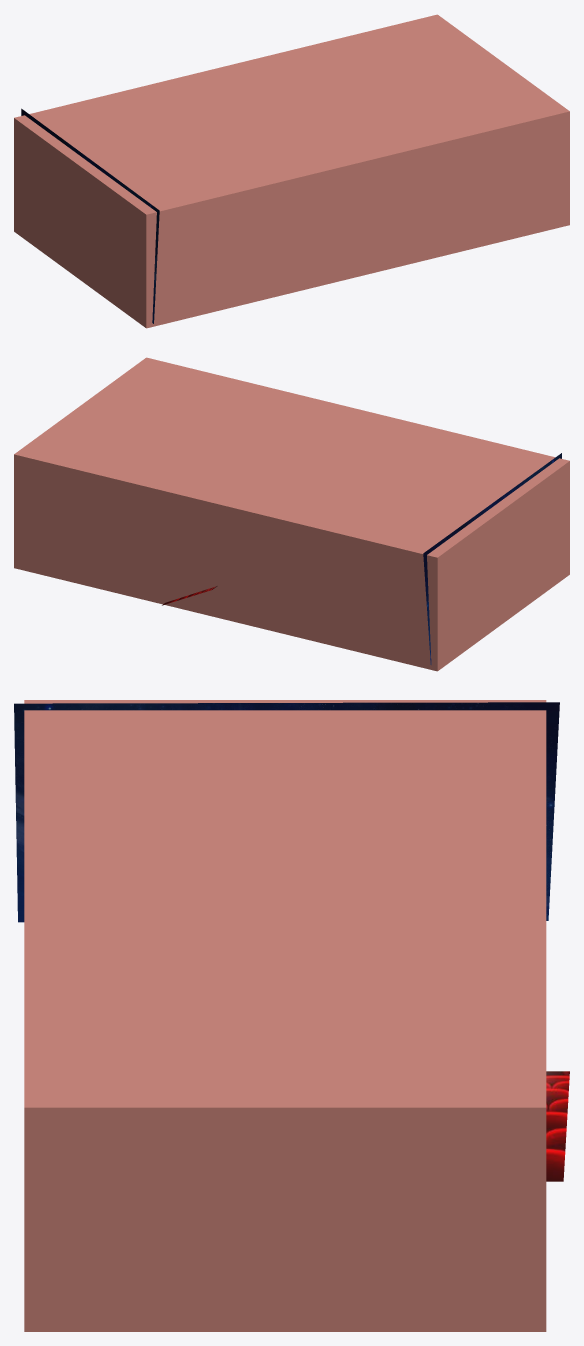
The model's file is movie hall.fbx.
The picture shows the model from 3 angles, top to bottom: view 1: azimuth 30°, elevation 25°; view 2: azimuth 150°, elevation 25°; view 3: azimuth 270°, elevation 25°; orthographic projection. The views are drawn at different scales.
Parts seen in each view (by area): view 1: pCube2, pPlane2; view 2: pCube2, pPlane2; view 3: pCube2, pPlane2, pPlane1.
Boxes of the visible parts, x1,y1,x2,y2 form: pCube2: (14, 14, 569, 328); pPlane2: (21, 108, 159, 323); pCube2: (14, 357, 569, 671); pPlane2: (423, 453, 561, 664); pCube2: (24, 700, 546, 1331); pPlane2: (14, 702, 559, 922); pPlane1: (546, 1071, 569, 1181).
Bounding box in the file's own units: 1549 × 412 × 893.
Materials: 3 (2 with a texture image).
